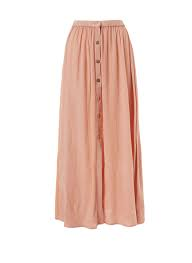C_skirt: (40, 15, 161, 236)
